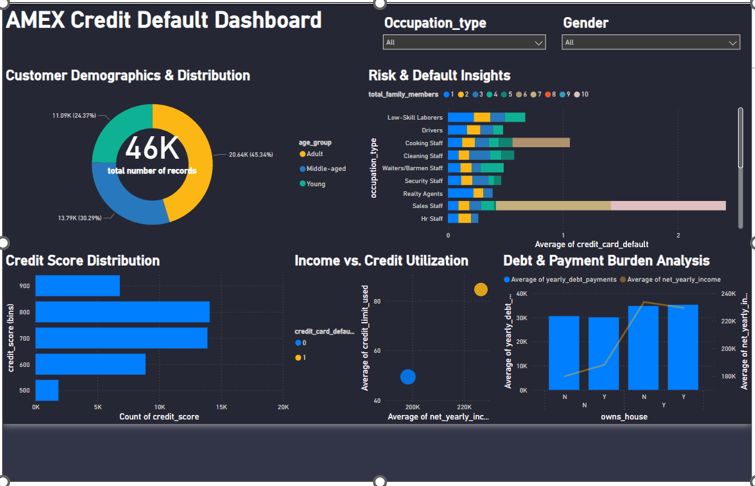

This screenshot's page, from the dashboard's own definition file:
{"tool":"powerbi","page":{"name":"Page 1","canvas":[1280,720],"ordinal":0},"visuals":[{"type":"donutChart","title":"Customer Demographics & Distribution","fields":{"Category":["train_df_cleaned.age_group"],"Y":["CountNonNull(train_df_cleaned.age_group)"]},"box":[0,108.4,601,307.4],"z":0},{"type":"card","fields":{"Values":["train_df_cleaned.total number of records"]},"box":[115.3,172.9,279.9,150.9],"z":1000},{"type":"scatterChart","title":"Income vs. Credit Utilization","fields":{"X":["Avg(train_df_cleaned.net_yearly_income)"],"Y":["Avg(train_df_cleaned.credit_limit_used)"],"Size":["Avg(train_df_cleaned.credit_score)"],"Series":["train_df_cleaned.credit_card_default"]},"box":[494,425.4,356.8,295],"z":2000},{"type":"clusteredBarChart","title":"Credit Score Distribution","fields":{"Y":["CountNonNull(train_df_cleaned.credit_score)"],"Category":["train_df_cleaned.credit_score (bins)"]},"box":[0,425.4,494,295],"z":3000},{"type":"lineClusteredColumnComboChart","title":"Debt & Payment Burden Analysis","fields":{"Category":["train_df_cleaned.owns_car","train_df_cleaned.owns_house"],"Y":["Avg(train_df_cleaned.yearly_debt_payments)"],"Y2":["Avg(train_df_cleaned.net_yearly_income)"]},"box":[850.8,425.4,429.5,295],"z":4000},{"type":"barChart","title":"Risk & Default Insights","fields":{"Series":["train_df_cleaned.total_family_members"],"Y":["Avg(train_df_cleaned.credit_card_default)"],"Category":["train_df_cleaned.occupation_type"]},"box":[620.2,108.4,650.4,317],"z":5000},{"type":"slicer","fields":{"Values":["train_df_cleaned.occupation_type"]},"box":[639.5,13.7,299.1,75.5],"z":5001},{"type":"textbox","box":[0,0,601,89.2],"z":5002},{"type":"slicer","fields":{"Values":["train_df_cleaned.gender"]},"box":[945.5,13.7,325.2,75.5],"z":5003}]}

Visuals, with their boxes in screenshot pixels (x1, y1, x2, y2):
"Customer Demographics & Distribution" donutChart: <bbox>33, 79, 371, 251</bbox>
card - train_df_cleaned.total number of records: <bbox>98, 115, 255, 199</bbox>
"Income vs. Credit Utilization" scatterChart: <bbox>311, 256, 511, 422</bbox>
"Credit Score Distribution" clusteredBarChart: <bbox>33, 256, 311, 422</bbox>
"Debt & Payment Burden Analysis" lineClusteredColumnComboChart: <bbox>511, 256, 752, 422</bbox>
"Risk & Default Insights" barChart: <bbox>381, 79, 746, 256</bbox>
slicer - train_df_cleaned.occupation_type: <bbox>392, 25, 560, 68</bbox>
textbox: <bbox>33, 18, 371, 68</bbox>
slicer - train_df_cleaned.gender: <bbox>564, 25, 746, 68</bbox>
